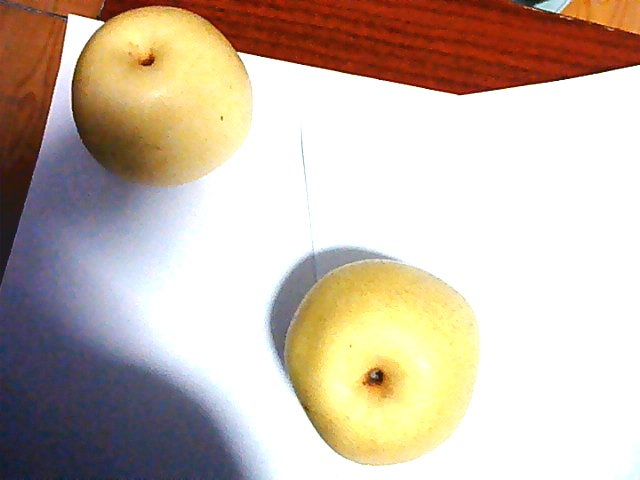pear: (284, 258, 486, 464), (68, 13, 255, 188)
